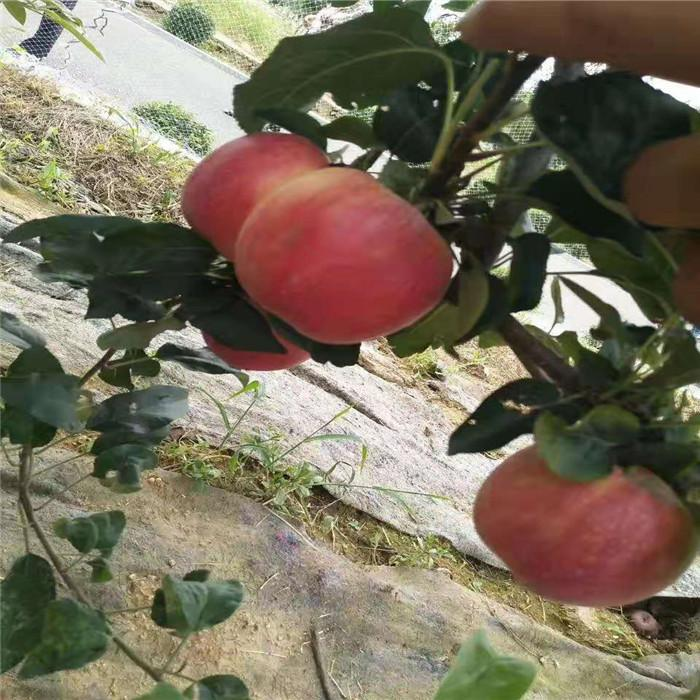apple: (231, 170, 455, 348), (467, 438, 694, 608), (178, 128, 332, 261)
